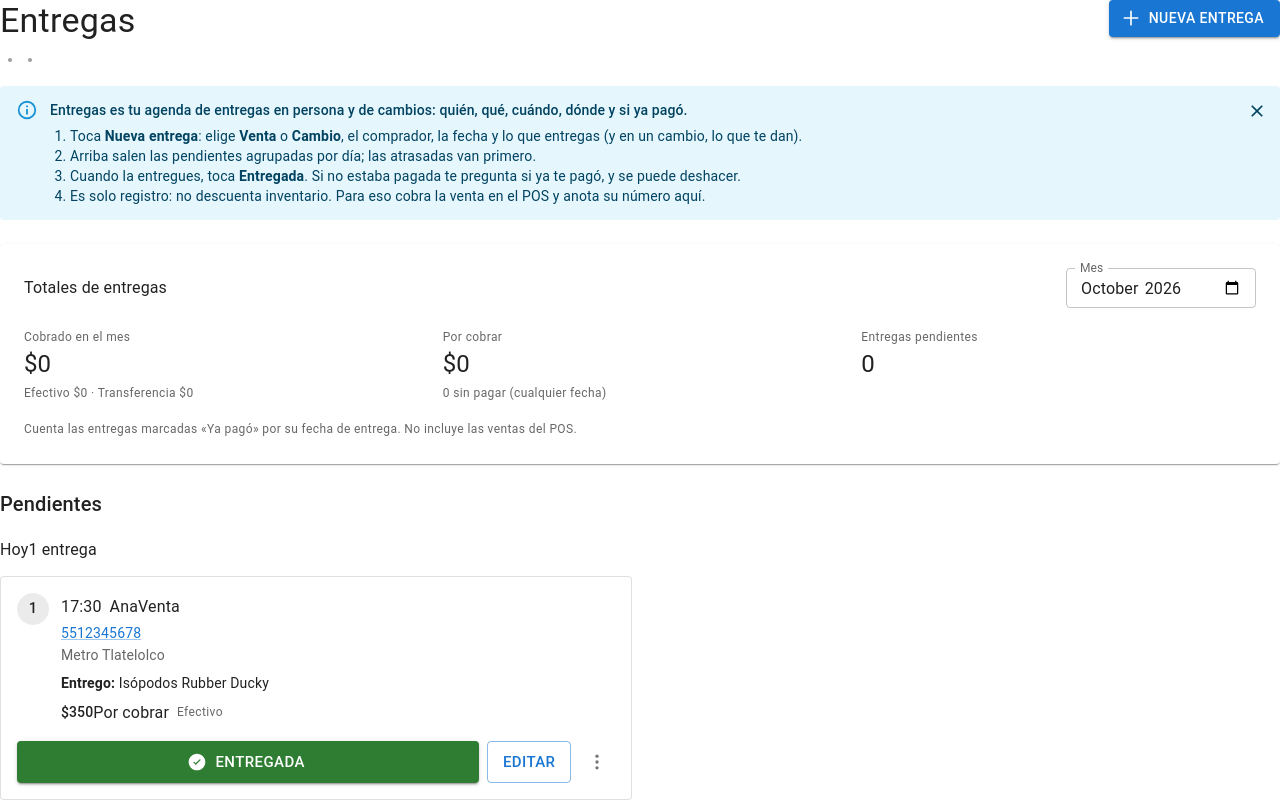
DeliveryListView › «Cancelar» en la pregunta del pago no entrega nada
Click the button "Entregada".
click(248, 762)  # box [17,741,479,783]
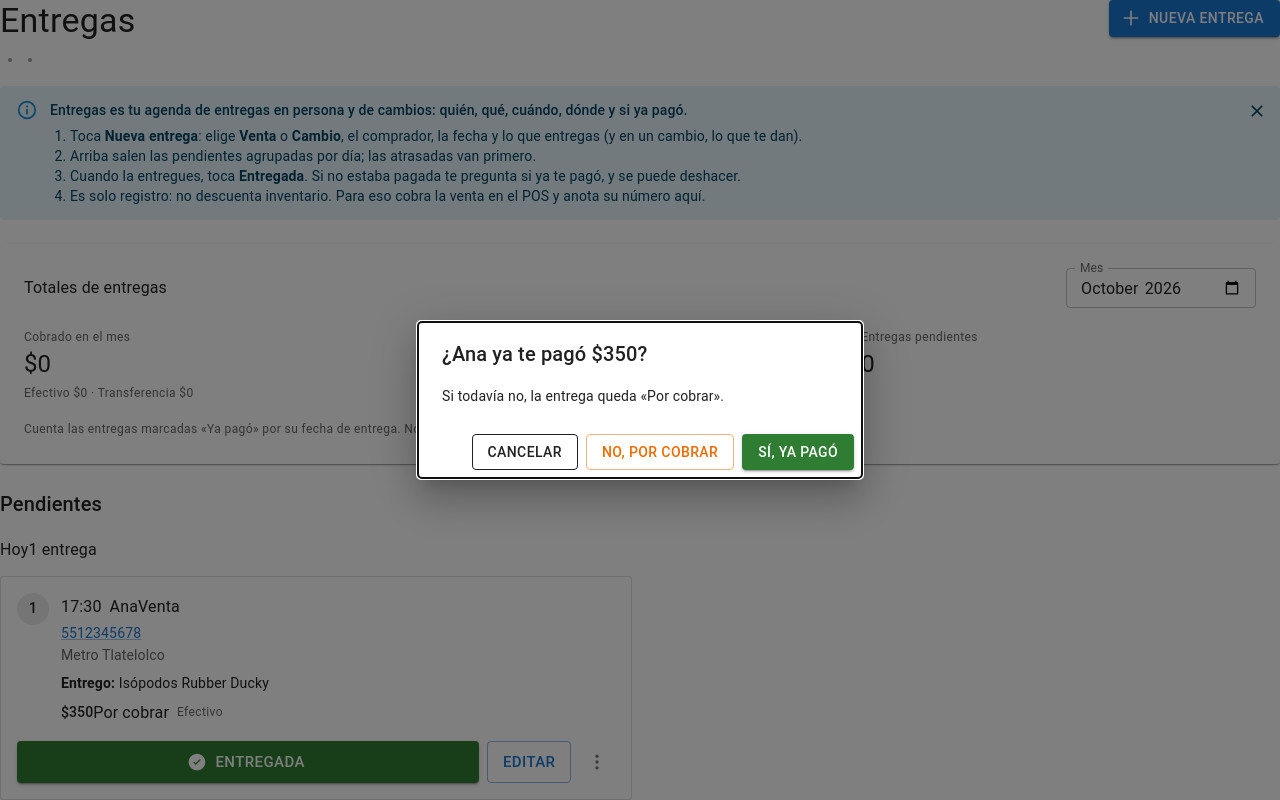
Click the button "Cancelar".
click(525, 452)  # box [472,434,578,470]
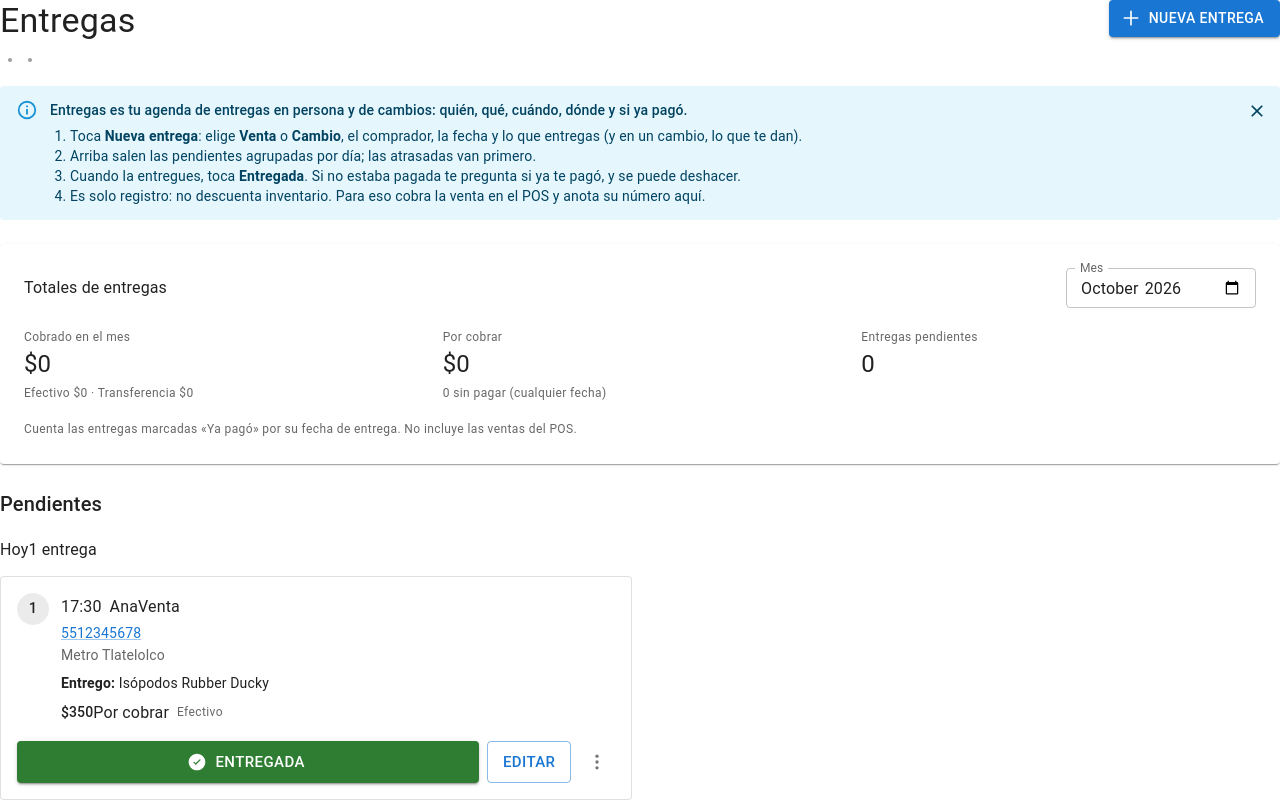
Expected: the dialog is gone
